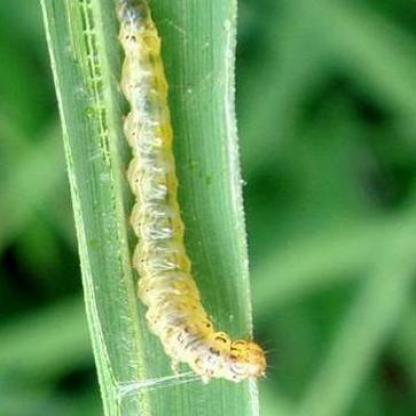leaf-folder: (69, 4, 290, 403)
